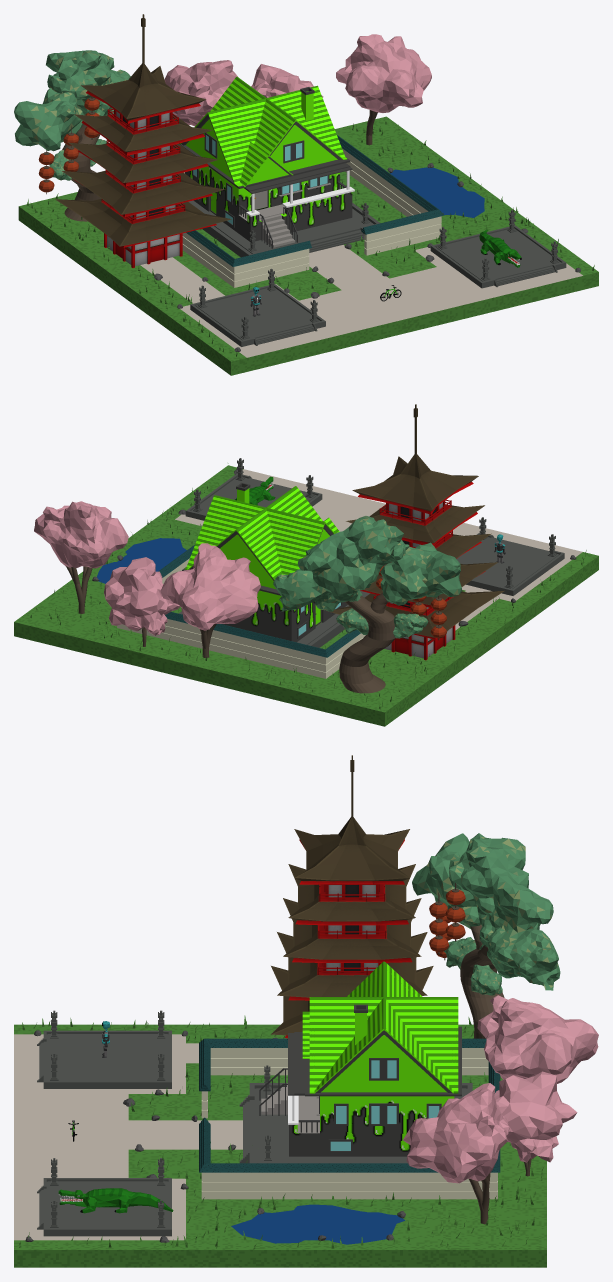
3 views of the same model, one above another, from view 1: azimuth 30°, elevation 25°; view 2: azimuth 150°, elevation 25°; view 3: azimuth 270°, elevation 25° (orthographic). The views are drawn at different scales.
Visible parts, largest first — view 1: Cube.005, Cube.754, ANIMAL_COCODRILO; view 2: Cube.005, Cube.754, ANIMAL_COCODRILO; view 3: Cube.005, Cube.754, ANIMAL_COCODRILO.
Part boxes in pixels (box(x1,y1,x2,y2)): Cube.005: box(14, 14, 598, 375); Cube.754: box(179, 76, 354, 248); ANIMAL_COCODRILO: box(479, 229, 521, 267); Cube.005: box(14, 404, 598, 726); Cube.754: box(182, 482, 347, 642); ANIMAL_COCODRILO: box(235, 476, 275, 505); Cube.005: box(14, 755, 598, 1267); Cube.754: box(259, 961, 461, 1156); ANIMAL_COCODRILO: box(58, 1188, 173, 1213).
Bounding box in the file's own units: 4528 × 2690 × 4389.
Materials: 44 (6 with a texture image).
